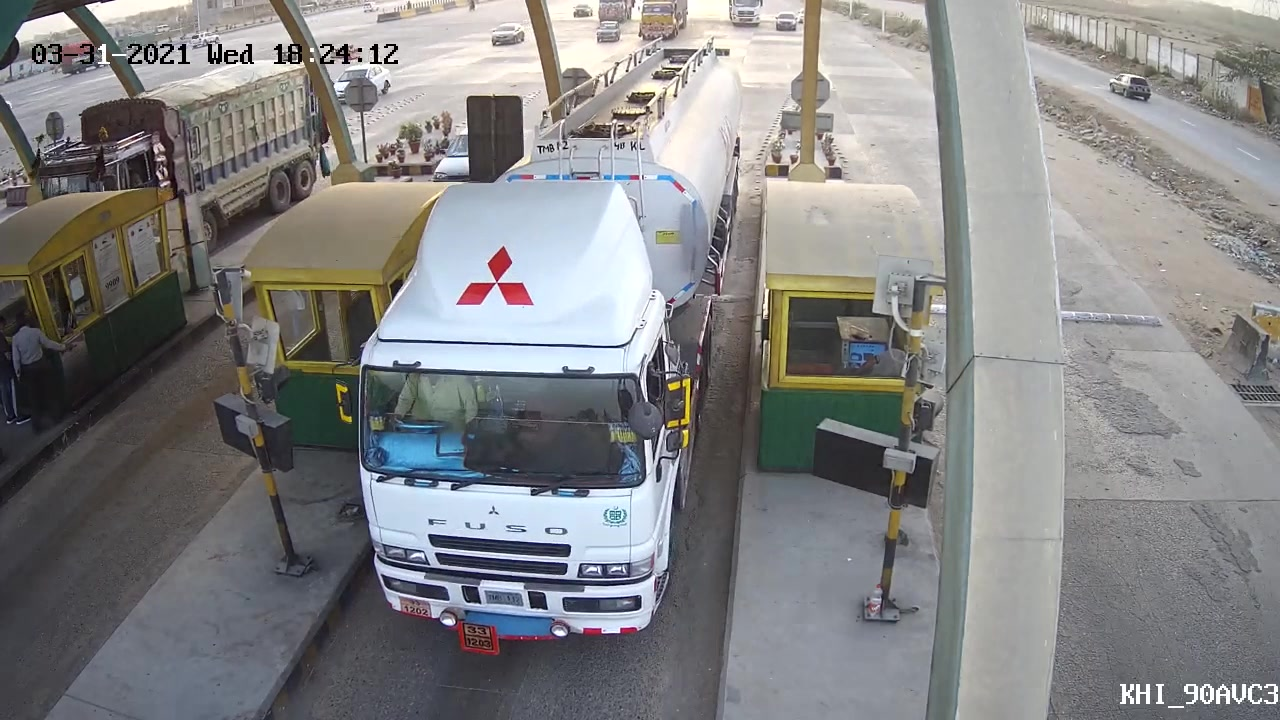F6: (347, 37, 761, 662)
